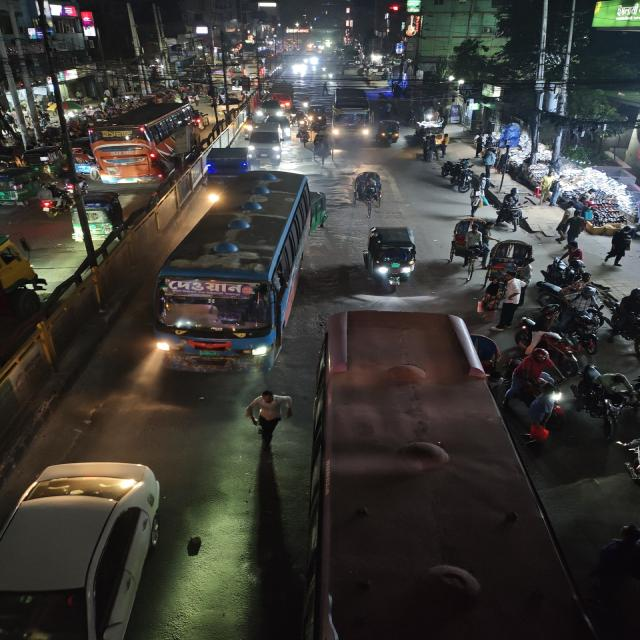bus: (299, 303, 565, 640), (149, 170, 315, 374), (87, 102, 195, 186), (330, 89, 375, 145)
car: (2, 460, 171, 640), (246, 127, 284, 169), (255, 97, 288, 120)
cng: (361, 222, 422, 292), (67, 190, 130, 244), (0, 166, 36, 206), (21, 144, 66, 174), (376, 118, 402, 148)
motorcycle: (574, 365, 636, 427), (497, 186, 529, 232), (34, 182, 70, 218), (618, 438, 640, 492), (444, 158, 473, 194)
pedestrian: (246, 389, 295, 447), (523, 390, 562, 450), (494, 274, 526, 326), (604, 224, 632, 270), (555, 206, 586, 247)
rickshaw: (484, 238, 536, 286), (447, 216, 491, 268), (350, 169, 389, 217), (309, 134, 335, 166), (294, 126, 313, 148)
truck: (206, 144, 250, 178)
